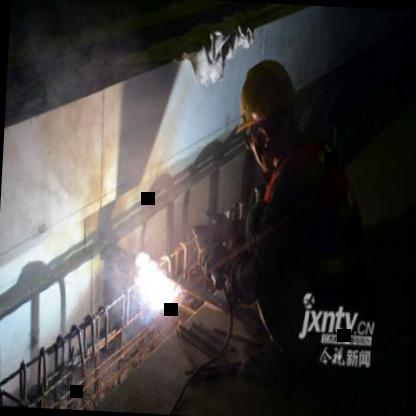helmet: (234, 53, 306, 177)
